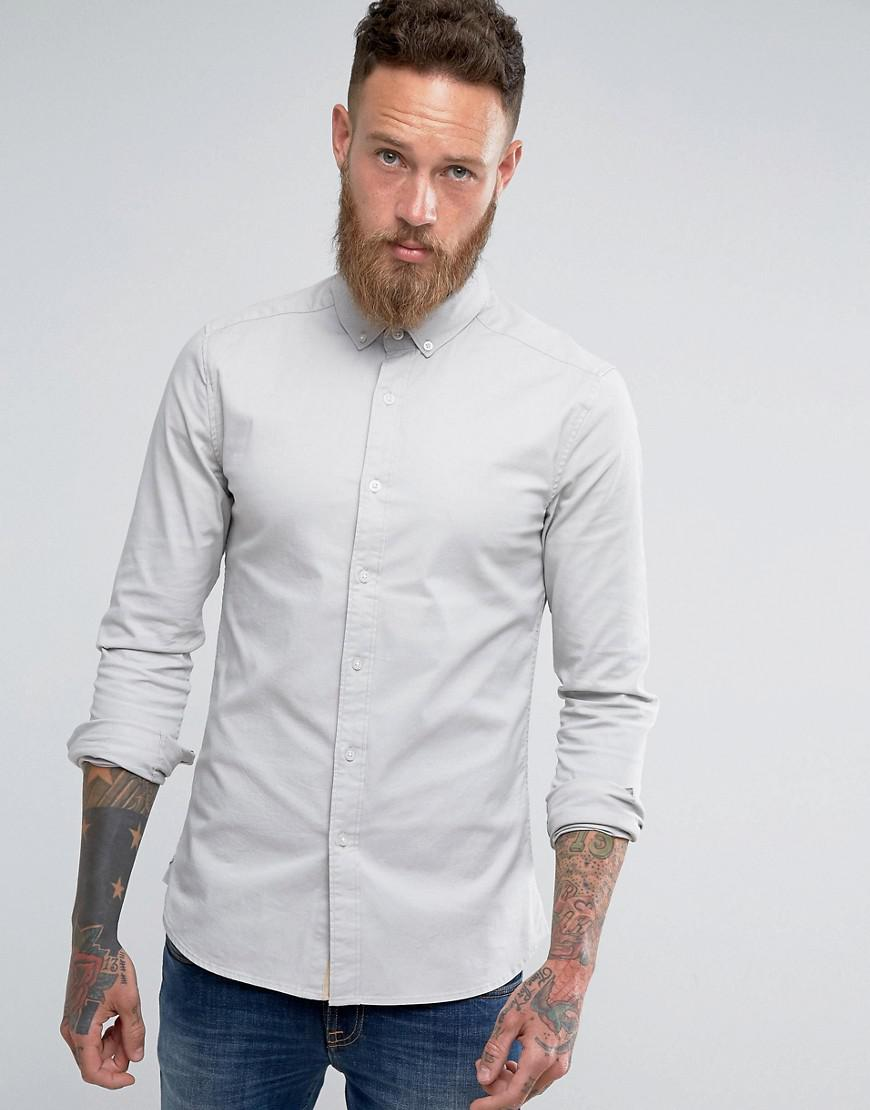teeshirt: (52, 293, 700, 924)
